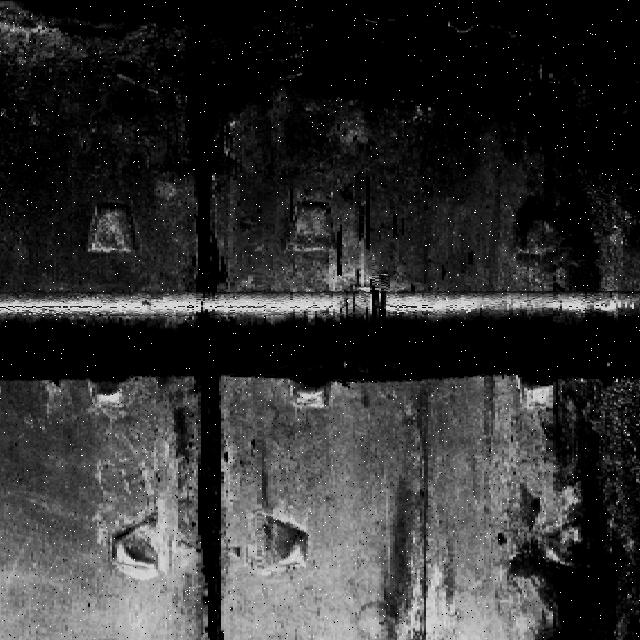leakage: (244, 0, 637, 169), (508, 380, 640, 634), (180, 25, 233, 294), (192, 368, 232, 639)
